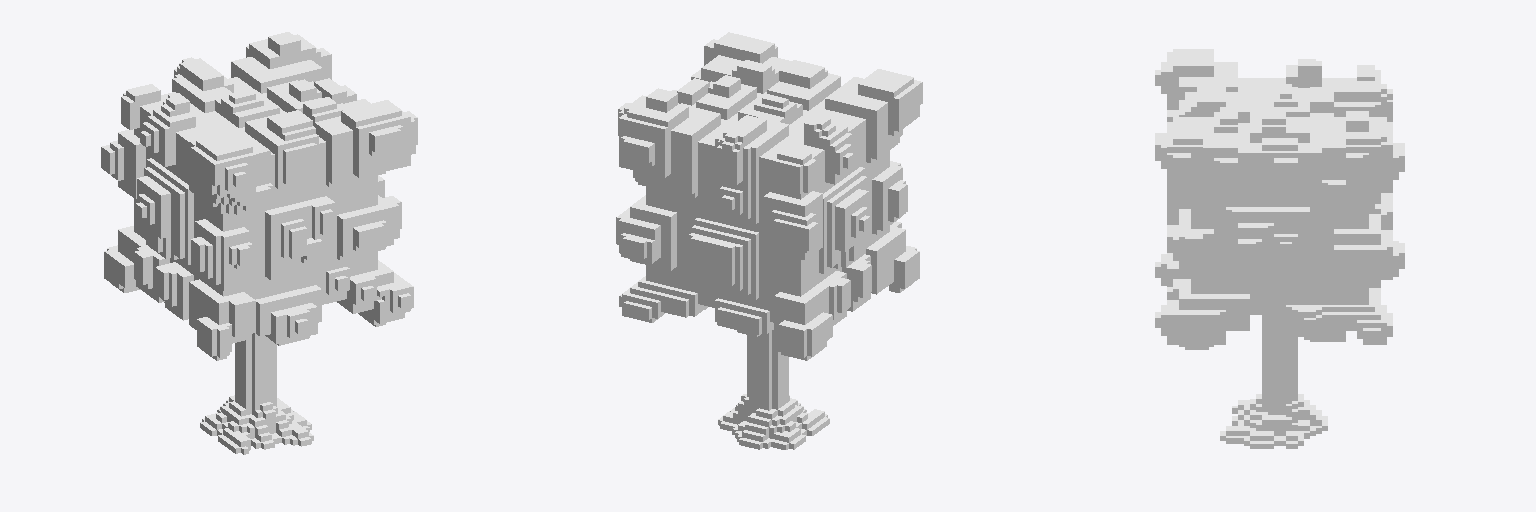
Rendered from tree_cyber_01.obj.
3 views of the same model, side by side, from view 1: azimuth 30°, elevation 25°; view 2: azimuth 150°, elevation 25°; view 3: azimuth 270°, elevation 25° (orthographic).
Parts seen in each view (by area): view 1: object 1; view 2: object 1; view 3: object 1.
Part boxes in pixels (x1,y1,x2,y2): object 1: (101,32,417,454); object 1: (616,32,922,449); object 1: (1155,49,1404,448).
Bounding box in the file's own units: 4.2 × 6.4 × 4.2.